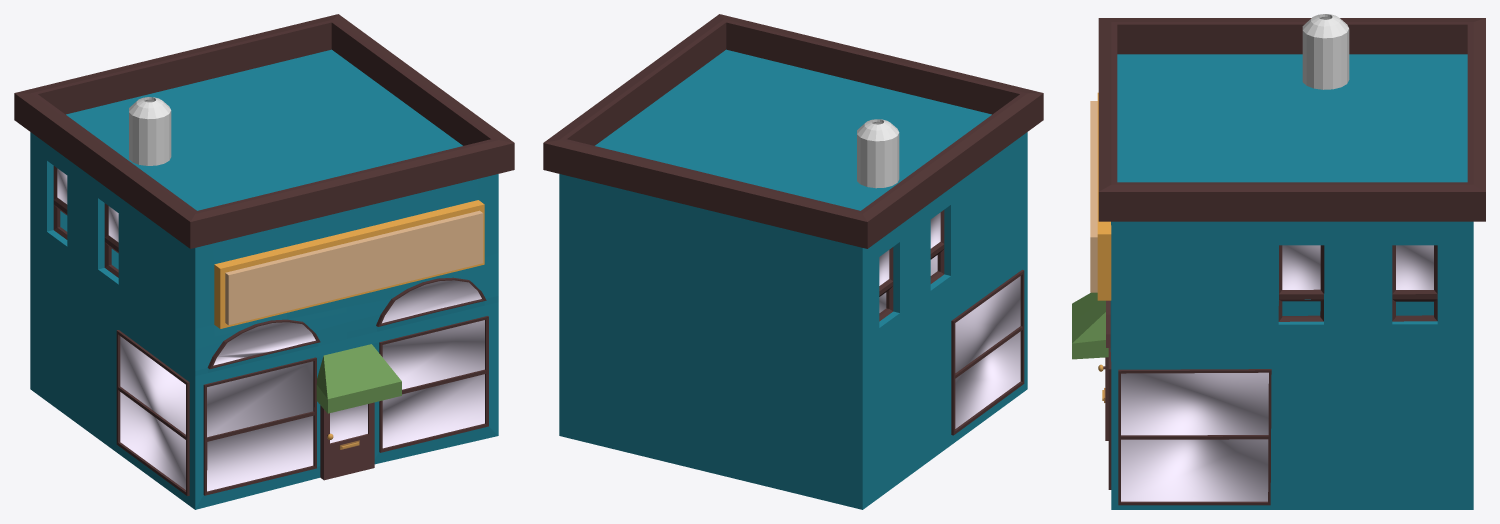
File: Bookstore final blue.fbx
3 renders of one model, left to right at view 1: azimuth 30°, elevation 25°; view 2: azimuth 150°, elevation 25°; view 3: azimuth 270°, elevation 25°, orthographic. The views are drawn at different scales.
Parts seen in each view (by area): view 1: Plane.011; view 2: Plane.011; view 3: Plane.011.
Boxes of the visible parts, <box> form: Plane.011: <box>14,14,514,509</box>; Plane.011: <box>543,14,1043,509</box>; Plane.011: <box>1072,14,1485,509</box>.
Size of the model in its own units: 2948 by 2833 by 2966.
